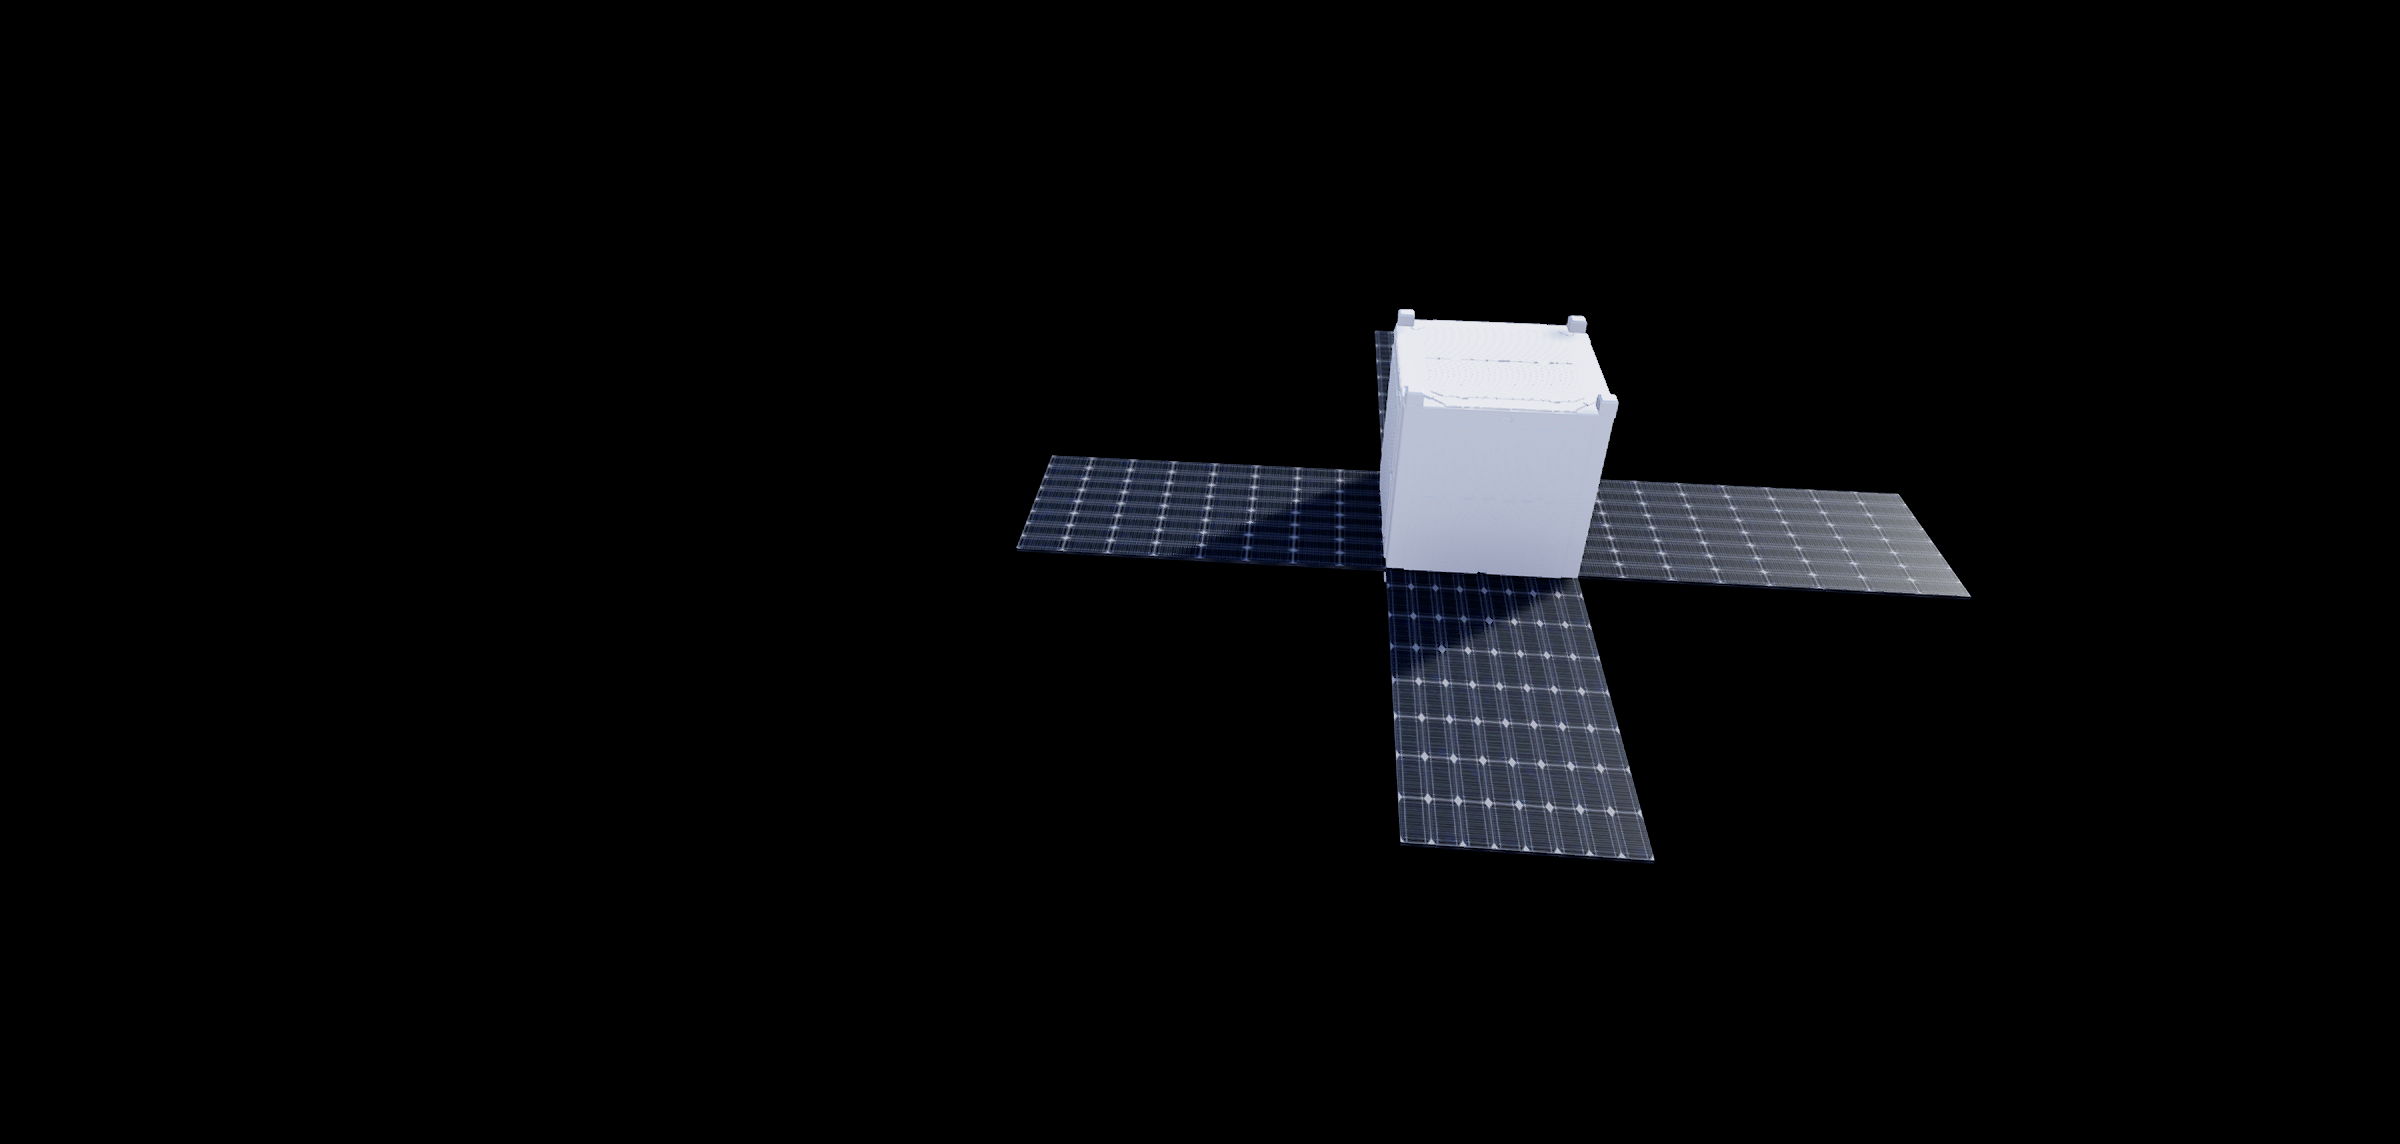satellite: (993, 270, 2002, 881)
